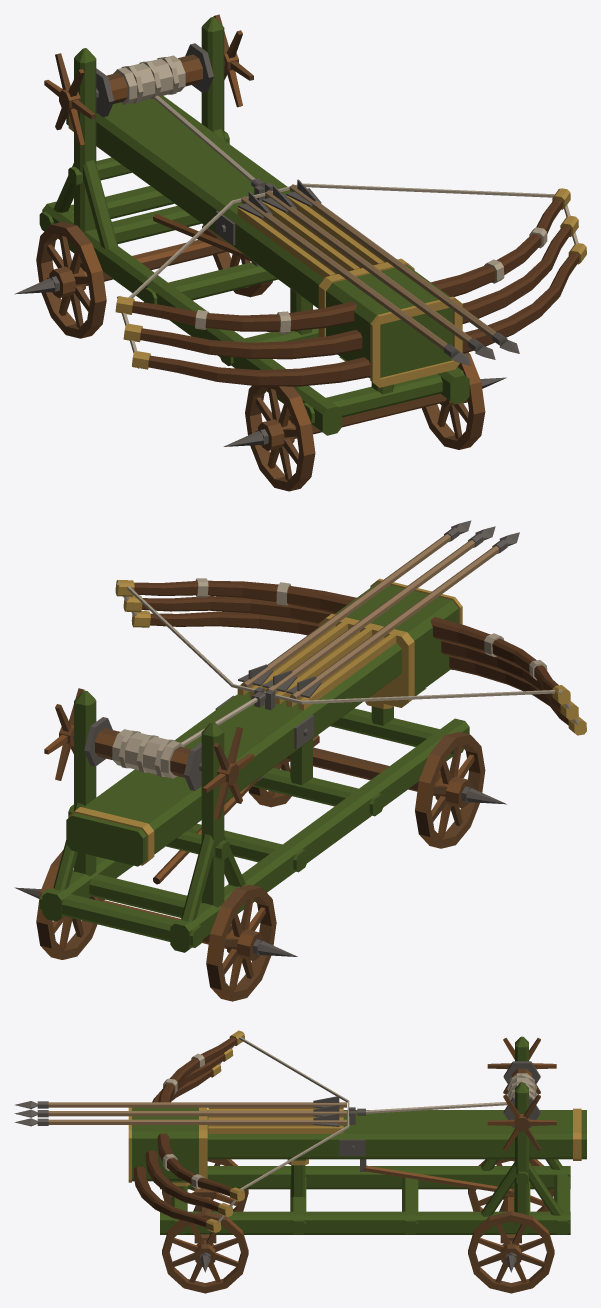
Rendered from jp_ballista.glb.
3 views of the same model, one above another, from view 1: azimuth 30°, elevation 25°; view 2: azimuth 150°, elevation 25°; view 3: azimuth 270°, elevation 25° (orthographic). The views are drawn at different scales.
Parts seen in each view (by area): view 1: body, wheel-rr-mesh, wheel-fr-mesh, wheel-fl-mesh, bolt-l-mesh, bolt-mesh, bolt-r-mesh, wheel-rl-mesh; view 2: body, wheel-rr-mesh, wheel-fr-mesh, bolt-r-mesh, bolt-l-mesh, bolt-mesh, wheel-rl-mesh, wheel-fl-mesh; view 3: body, wheel-rl-mesh, wheel-fl-mesh, bolt-l-mesh, bolt-mesh, bolt-r-mesh, wheel-rr-mesh, wheel-fr-mesh.
Part boxes in pixels (<box>): body: <box>39,14,586,438</box>; wheel-rr-mesh: <box>14,221,106,338</box>; wheel-fr-mesh: <box>223,385,315,491</box>; wheel-fl-mesh: <box>421,352,506,449</box>; bolt-l-mesh: <box>286,179,519,353</box>; bolt-mesh: <box>262,185,495,359</box>; bolt-r-mesh: <box>238,191,471,365</box>; wheel-rl-mesh: <box>213,251,272,297</box>; body: <box>39,578,586,952</box>; wheel-rr-mesh: <box>206,884,297,1001</box>; wheel-fr-mesh: <box>415,732,506,848</box>; bolt-r-mesh: <box>286,532,519,699</box>; bolt-l-mesh: <box>238,520,471,687</box>; bolt-mesh: <box>262,526,495,692</box>; wheel-rl-mesh: <box>14,849,97,959</box>; wheel-fl-mesh: <box>248,759,291,807</box>; body: <box>128,1030,586,1243</box>; wheel-rl-mesh: <box>468,1211,554,1293</box>; wheel-fl-mesh: <box>162,1211,248,1293</box>; bolt-l-mesh: <box>14,1113,346,1126</box>; bolt-mesh: <box>14,1104,346,1117</box>; bolt-r-mesh: <box>15,1096,346,1108</box>; wheel-rr-mesh: <box>468,1159,553,1211</box>; wheel-fr-mesh: <box>162,1159,248,1211</box>.
Bounding box in the file's own units: 3.56 × 2.05 × 5.3.
